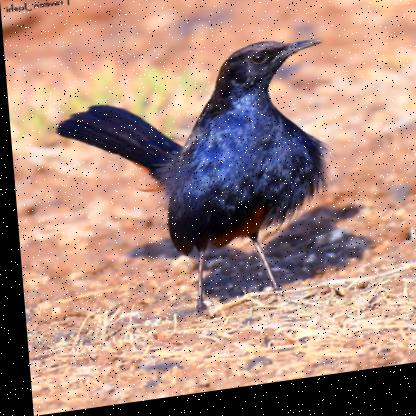Burung: (50, 41, 339, 337)
